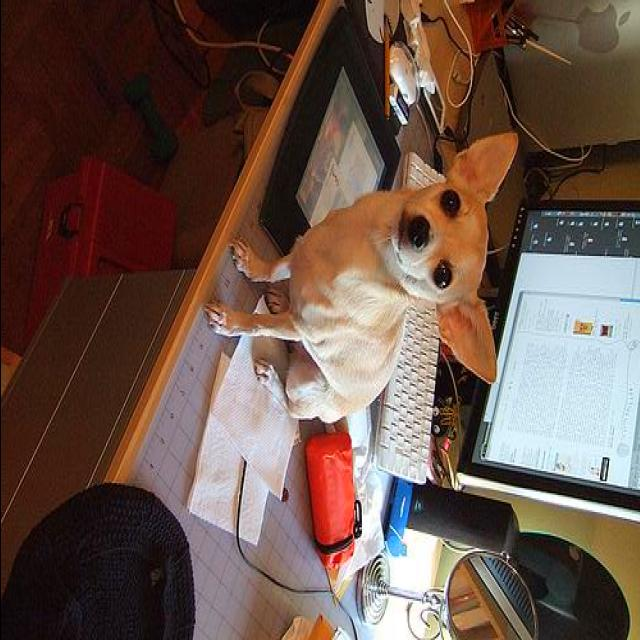chihuahua: (201, 124, 525, 433)
